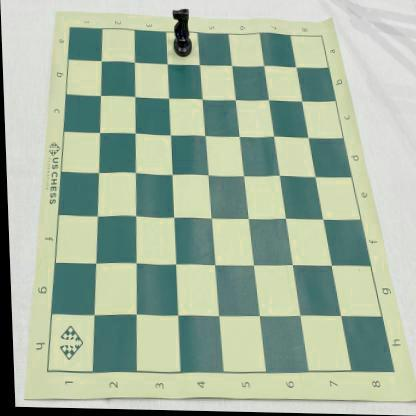black-knight: (170, 8, 194, 60)
